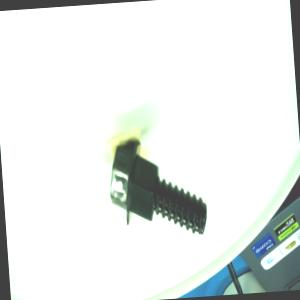parafuso: (104, 130, 209, 244), (104, 133, 208, 240)
